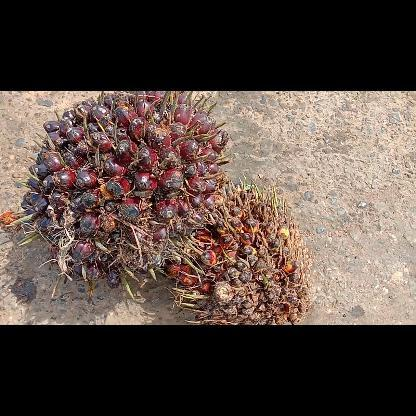Kurang masak: (9, 90, 229, 298)
TBS abnormal: (164, 176, 314, 324)
